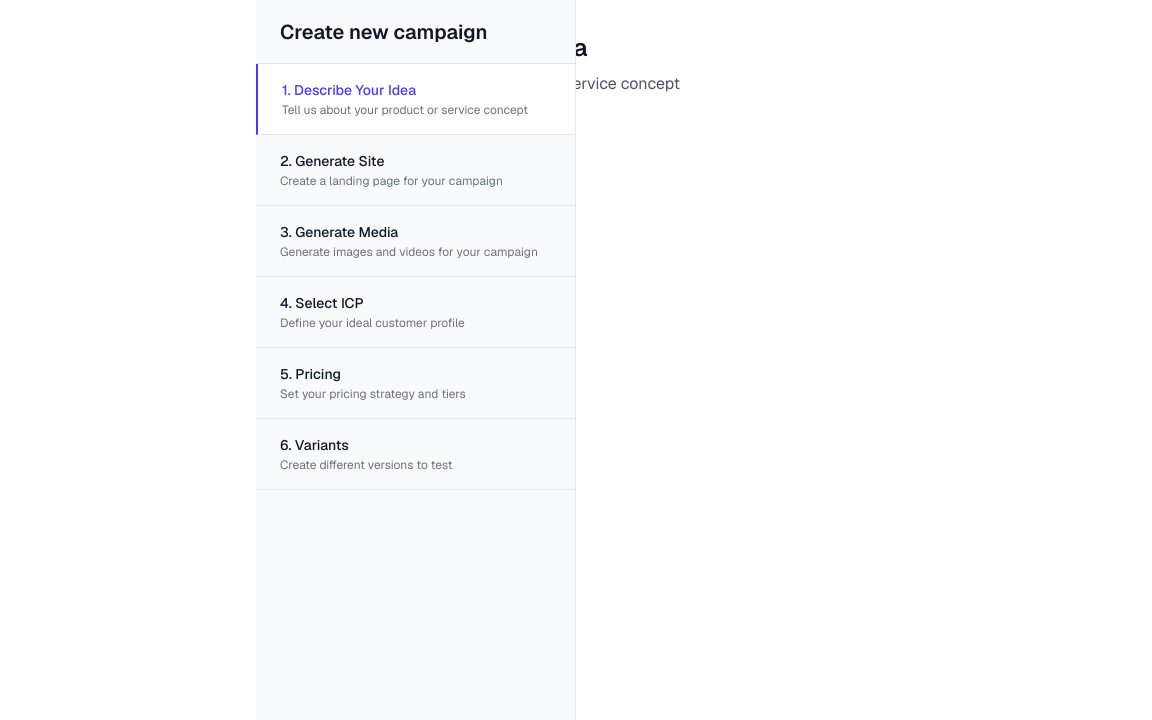
Test: CampaignContent component › shows correct description for Pricing section
Note: Click on "Pricing" section
Click the text "5. Pricing".
click(310, 374)  # box [280,364,341,384]
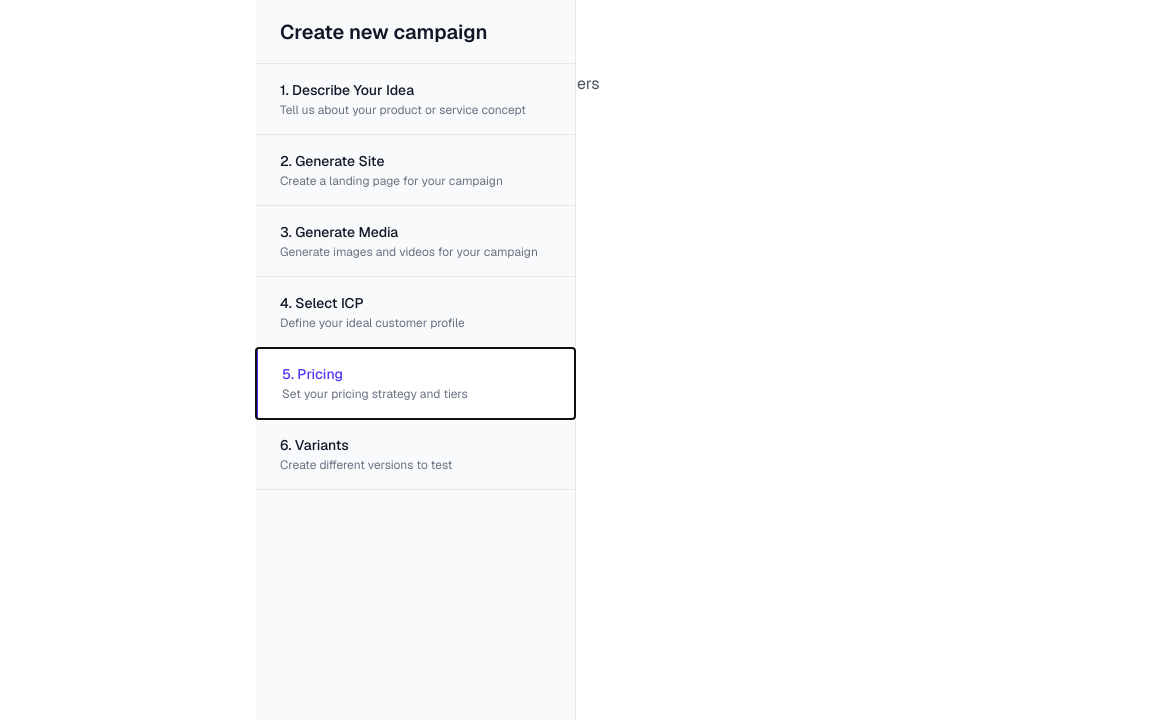
Check: the heading "5. Pricing" is shown, box [352,32,459,63]
Check: the element showing "5. Pricing Set your pricing strategy and tiers" is shown
